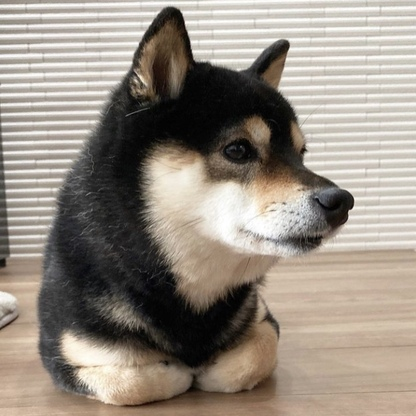shiba: (30, 1, 357, 410)
